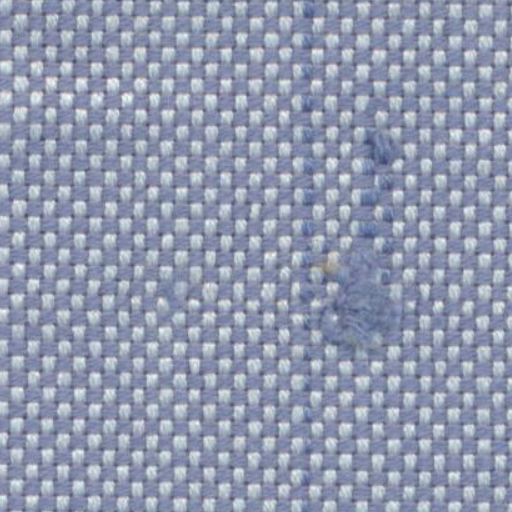DuanSha: (309, 108, 434, 370)
